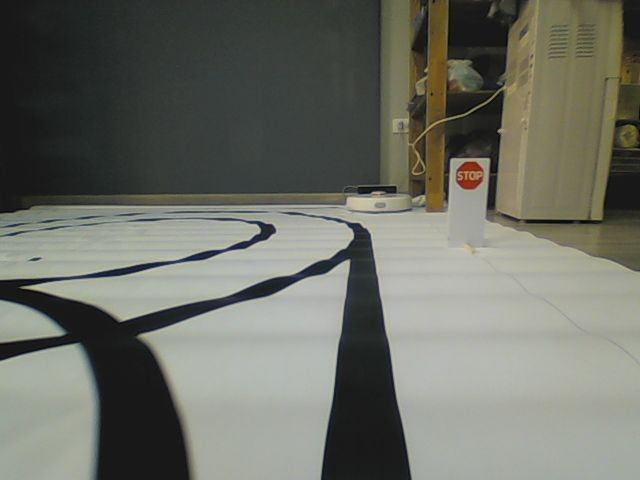Stop: (454, 161, 484, 190)
